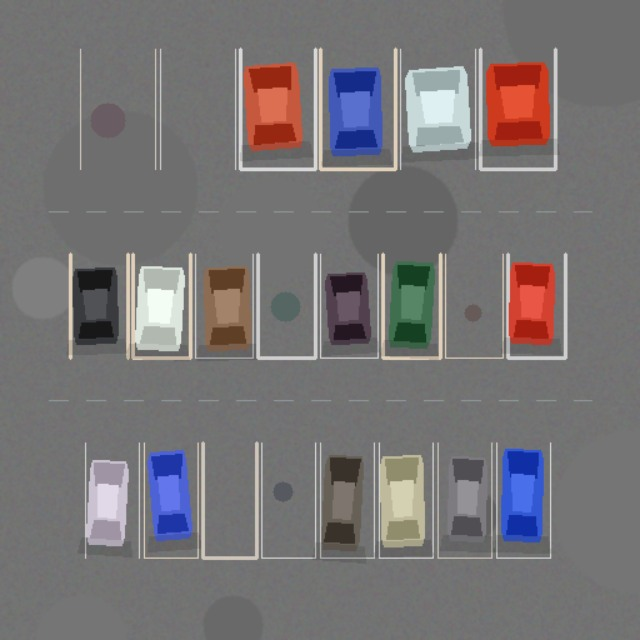space-empty: (80, 49, 155, 169), (160, 49, 235, 169), (202, 442, 256, 558), (261, 442, 315, 558), (258, 254, 315, 357), (445, 254, 502, 357)
space-occupied: (240, 49, 315, 169), (320, 49, 395, 169), (400, 49, 475, 169), (480, 49, 555, 169), (85, 442, 139, 558), (144, 442, 198, 558), (320, 442, 374, 558), (496, 442, 550, 558), (379, 442, 432, 558), (438, 442, 491, 558), (70, 254, 128, 357), (132, 254, 190, 357), (320, 254, 378, 357), (382, 254, 440, 357), (195, 254, 252, 357), (508, 254, 565, 357)
